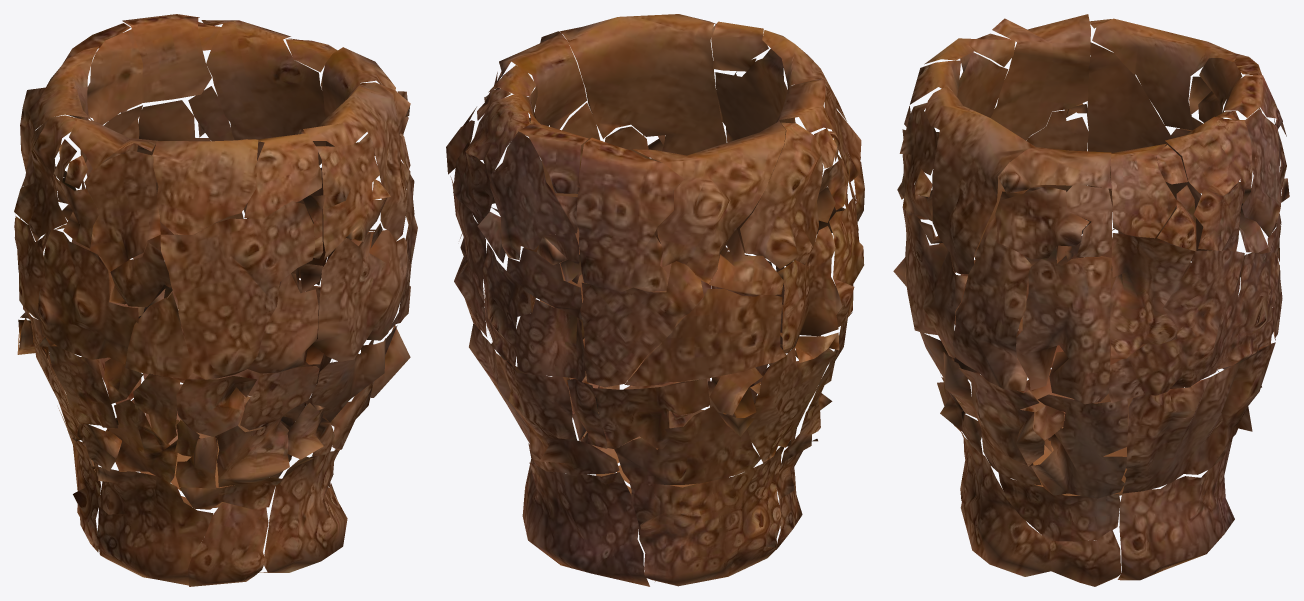
The model's file is sponge_barrel.glb.
3 views of the same model, side by side, from view 1: azimuth 30°, elevation 25°; view 2: azimuth 150°, elevation 25°; view 3: azimuth 270°, elevation 25° (orthographic).
Visible parts, largest first — view 1: tripo_node_b0d1604f-738b-49ff-b56b-b3993317b053; view 2: tripo_node_b0d1604f-738b-49ff-b56b-b3993317b053; view 3: tripo_node_b0d1604f-738b-49ff-b56b-b3993317b053.
Part boxes in pixels (<box>): tripo_node_b0d1604f-738b-49ff-b56b-b3993317b053: <box>14,14,417,586</box>; tripo_node_b0d1604f-738b-49ff-b56b-b3993317b053: <box>446,14,864,586</box>; tripo_node_b0d1604f-738b-49ff-b56b-b3993317b053: <box>893,14,1289,586</box>.
Bounding box in the file's own units: 0.8149 × 1 × 0.7713.
1 material, 1 textured.
